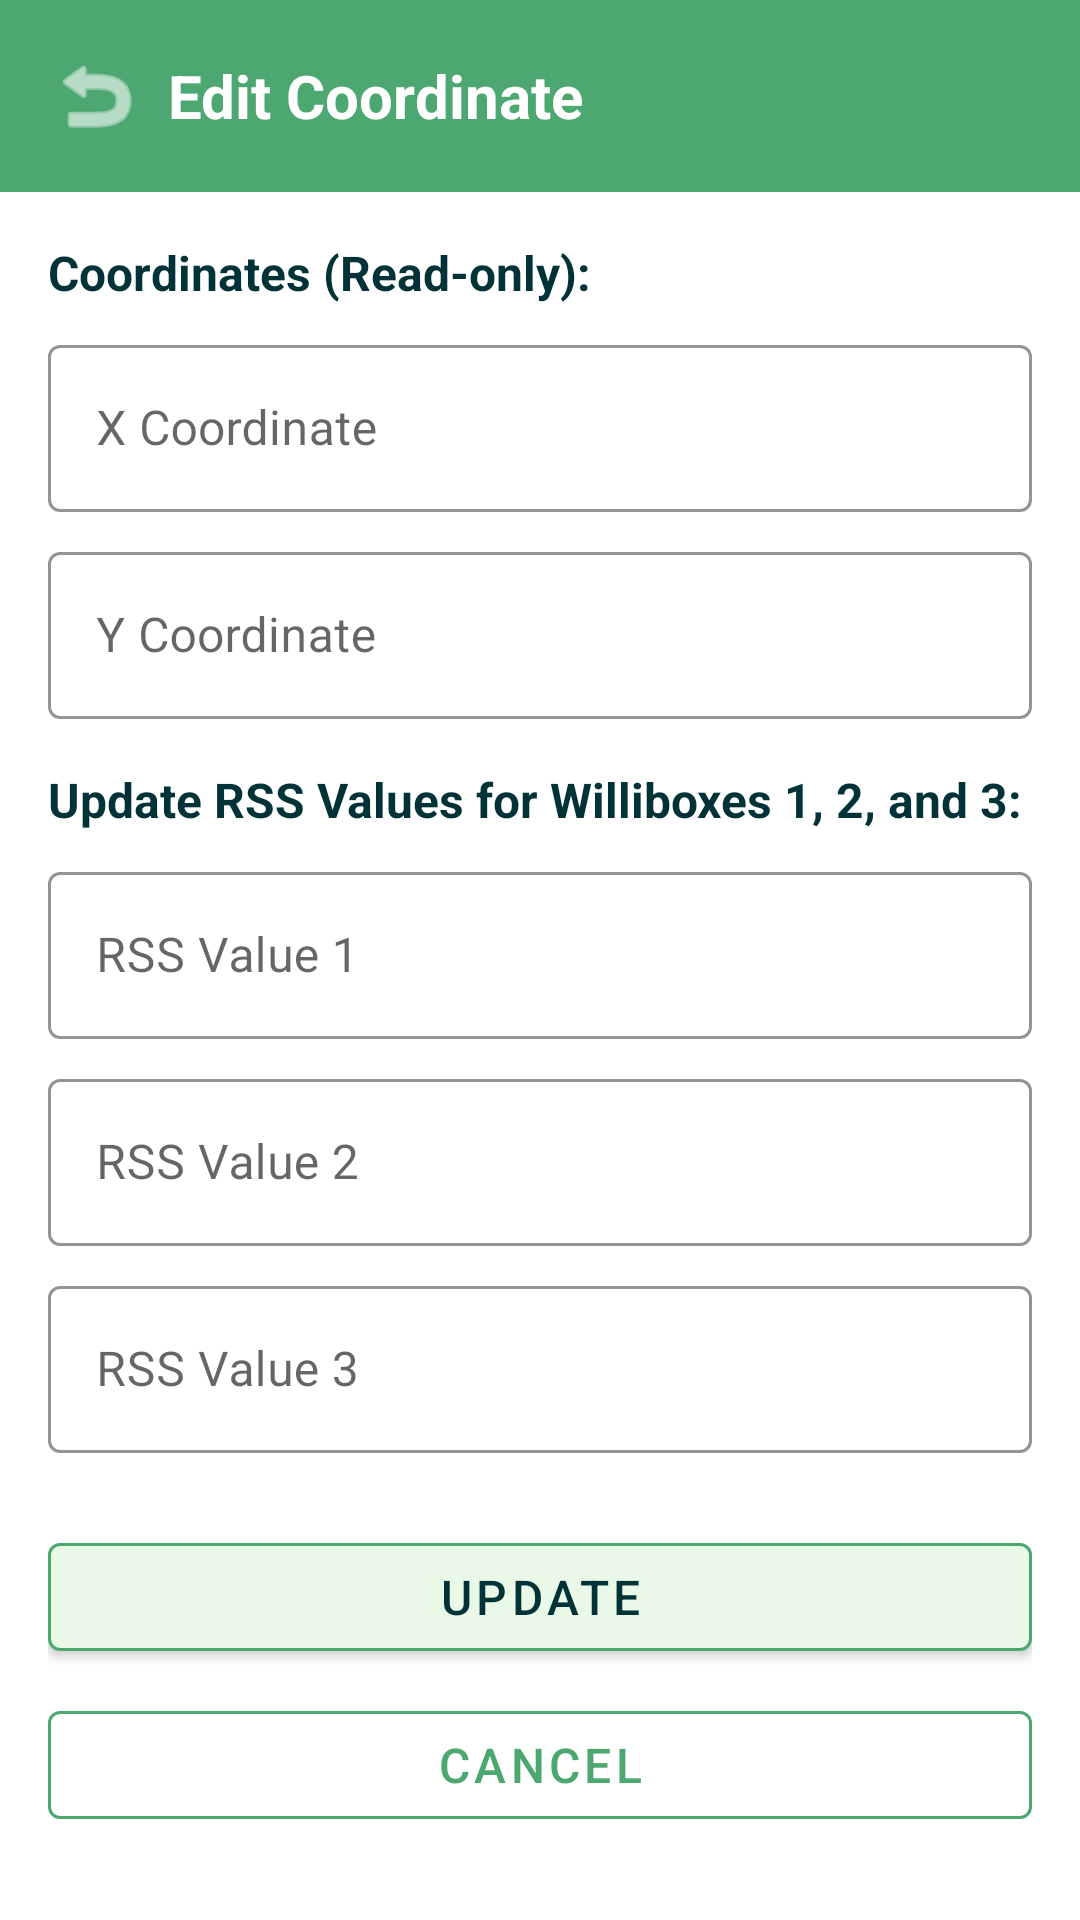

Named icons in this screenshot (1080 × 1920) and their bounding boxes, (x1, y1, x2, y2):
Back: (63, 65, 132, 128)
